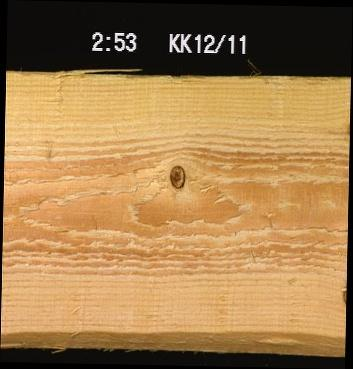dry_knot: (166, 163, 186, 189)
wave: (0, 325, 345, 355)
